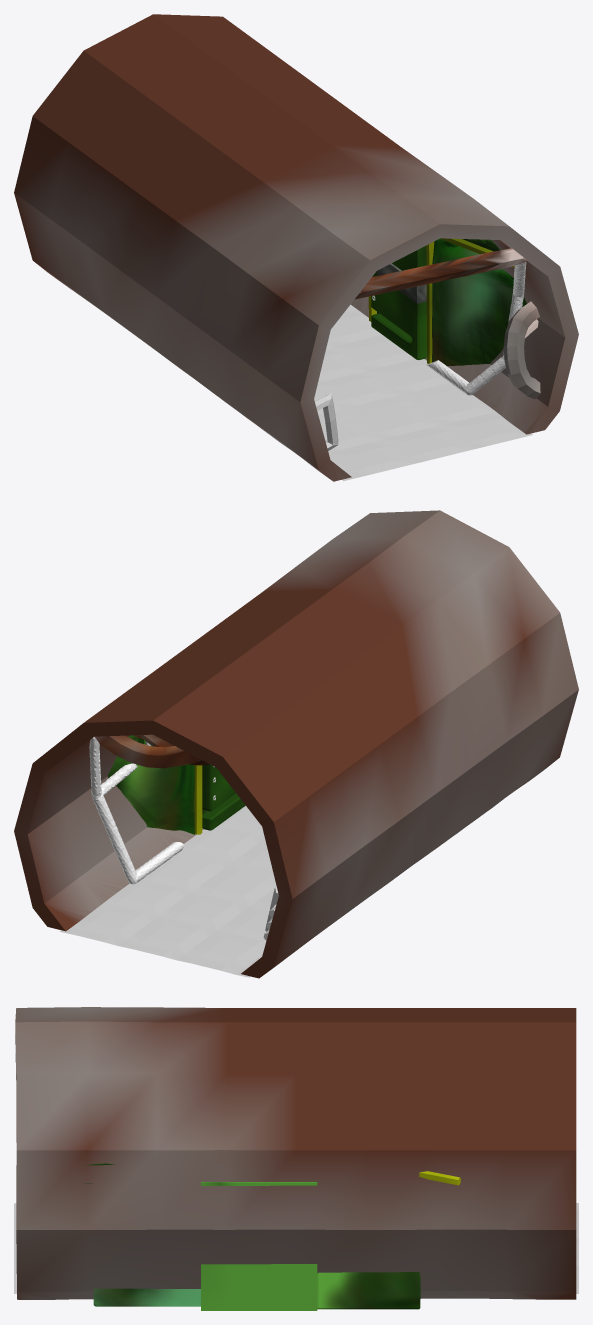
Rendered from Tunnel avec porte de secours.fbx.
The picture shows the model from 3 angles, top to bottom: view 1: azimuth 30°, elevation 25°; view 2: azimuth 150°, elevation 25°; view 3: azimuth 270°, elevation 25°; orthographic projection. The views are drawn at different scales.
Parts seen in each view (by area): view 1: Cylindre 5, Cylindre 4, Boîte 7, Boîte 9, Tube 12, Tube 6, Tube, Tube 7, Boîte 6; view 2: Cylindre 5, Cylindre 4, Boîte 8, Tube, Tube 3, Boîte 9, Boîte 5; view 3: Cylindre 5, Boîte 10, Boîte 8, Boîte 7, Cylindre 4.
Boxes of the visible parts, x1,y1,x2,y2 form: Cylindre 5: (14, 14, 578, 481); Cylindre 4: (314, 304, 532, 481); Boîte 7: (432, 238, 526, 365); Boîte 9: (371, 246, 426, 359); Tube 12: (354, 248, 526, 299); Tube 6: (503, 301, 540, 399); Tube: (426, 262, 526, 395); Tube 7: (315, 393, 338, 450); Boîte 6: (426, 241, 434, 363); Cylindre 5: (14, 510, 578, 978); Cylindre 4: (59, 806, 276, 977); Boîte 8: (107, 735, 194, 834); Tube: (89, 736, 183, 884); Tube 3: (95, 735, 200, 768); Boîte 9: (202, 764, 245, 830); Boîte 5: (194, 765, 202, 834); Cylindre 5: (15, 1007, 576, 1299); Boîte 10: (201, 1182, 317, 1310); Boîte 8: (317, 1272, 420, 1309); Boîte 7: (84, 1183, 200, 1306); Cylindre 4: (14, 1203, 578, 1293).
Bounding box in the file's own units: 4.59 × 3.65 × 8.18.
